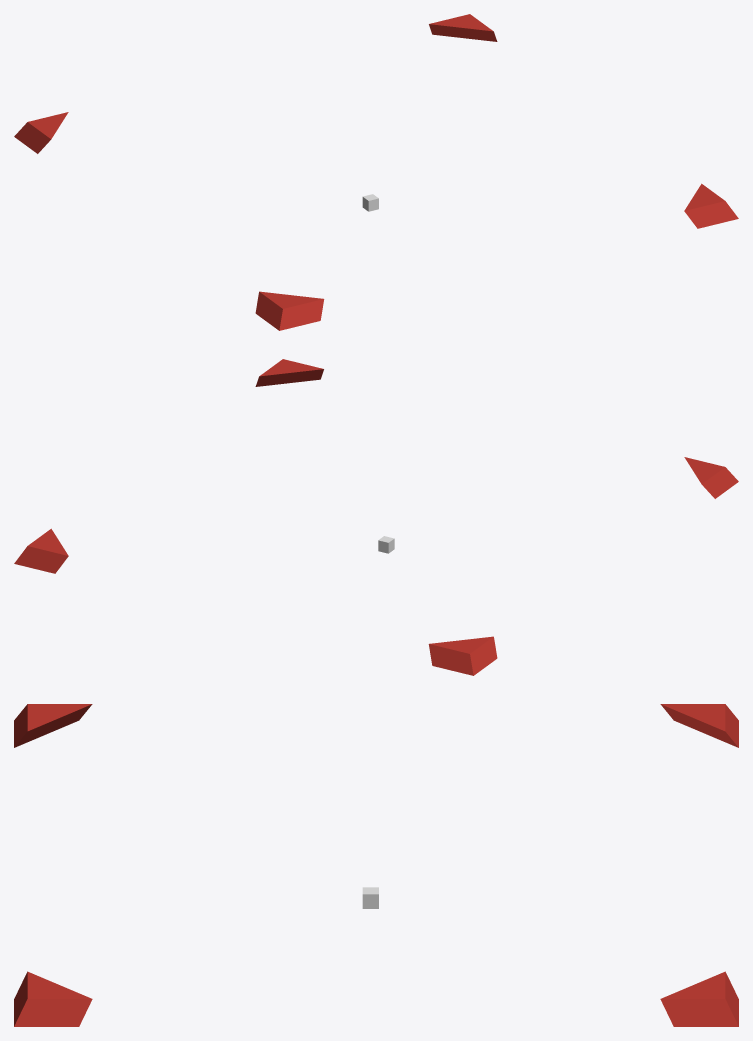
3 views of the same model, one above another, from view 1: azimuth 30°, elevation 25°; view 2: azimuth 150°, elevation 25°; view 3: azimuth 270°, elevation 25° (orthographic). The views are drawn at different scales.
Visible parts, largest first — view 1: Stage; view 2: Stage; view 3: Stage.
Part boxes in pixels (x1,y1,x2,y2): Stage: (14,14,738,330); Stage: (14,359,738,675); Stage: (14,704,738,1026).
Bounding box in the file's own units: 88.6 × 8 × 88.6.
